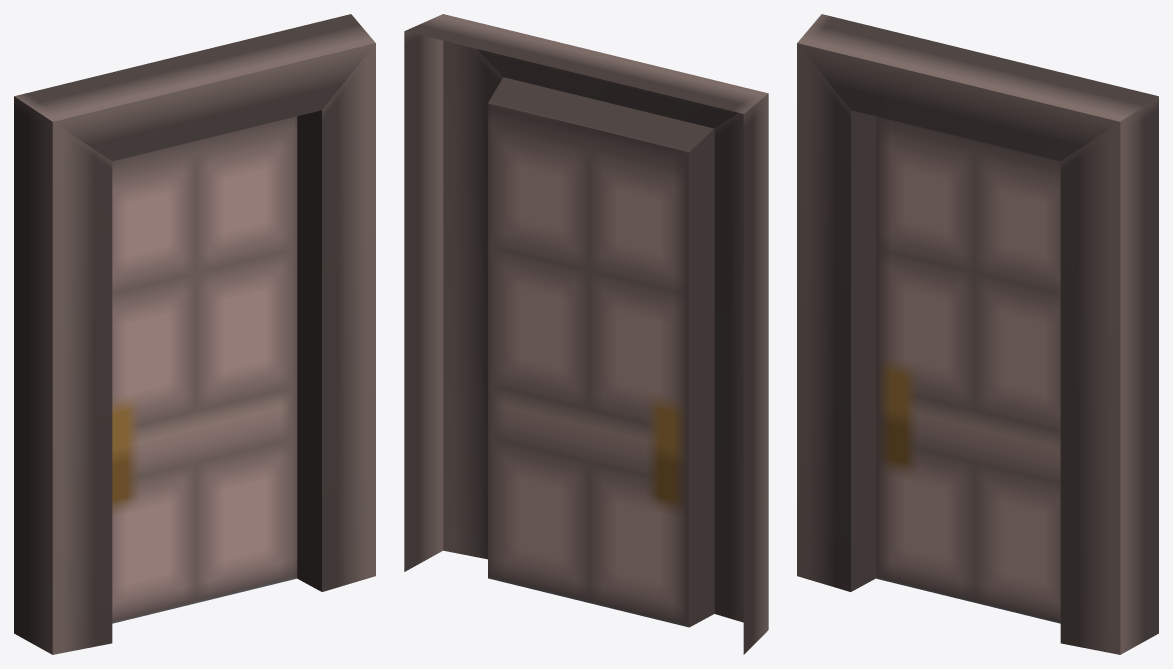
The model's file is door_v4_001.fbx.
3 views of the same model, side by side, from view 1: azimuth 30°, elevation 25°; view 2: azimuth 150°, elevation 25°; view 3: azimuth 330°, elevation 25° (orthographic).
Visible parts, largest first — view 1: door_v4_001; view 2: door_v4_001; view 3: door_v4_001.
Part boxes in pixels (box(x1,y1,x2,y2)): door_v4_001: box(14, 14, 375, 654); door_v4_001: box(404, 14, 768, 654); door_v4_001: box(797, 14, 1158, 654).
Bounding box in the file's own units: 118 × 179 × 20.9.
